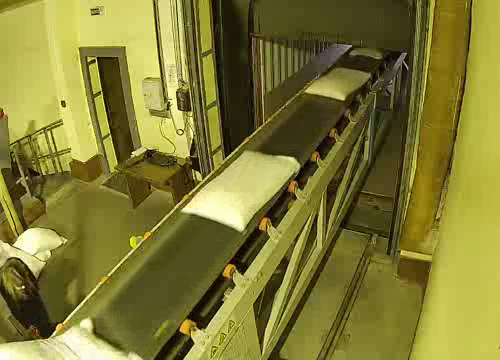bag: (178, 142, 307, 236), (0, 316, 151, 360), (301, 65, 376, 103), (348, 44, 391, 60)
